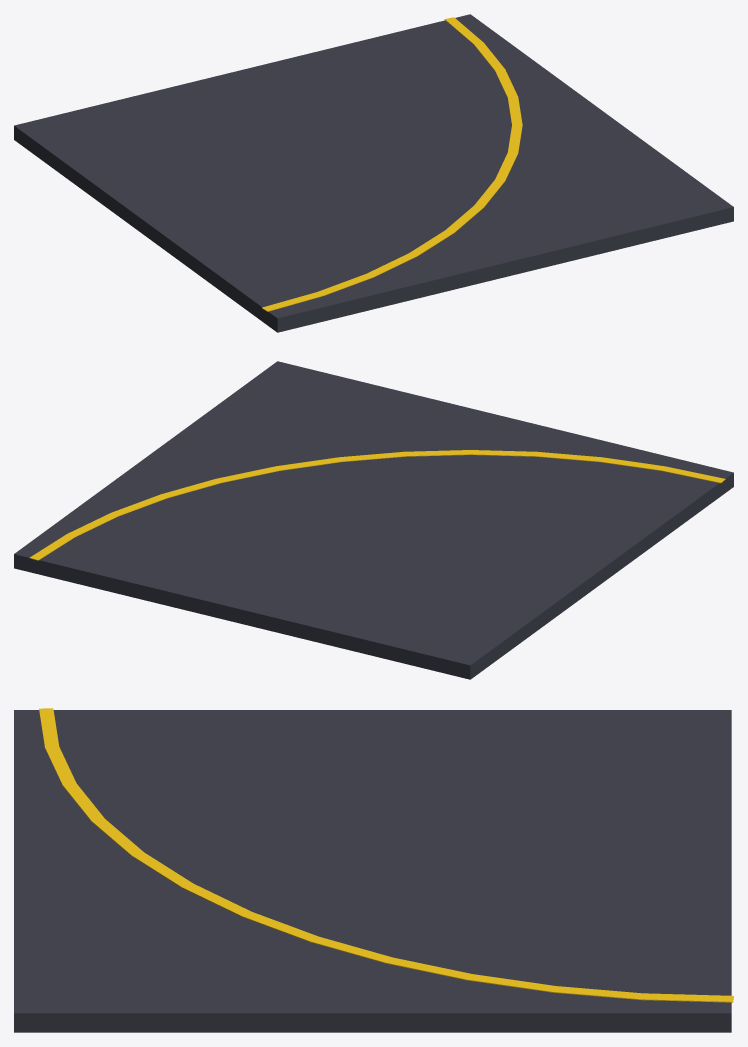
The model's file is env_road_corner.fbx.
3 views of the same model, one above another, from view 1: azimuth 30°, elevation 25°; view 2: azimuth 150°, elevation 25°; view 3: azimuth 270°, elevation 25° (orthographic). The views are drawn at different scales.
Visible parts, largest first — view 1: env_road_corner_geo; view 2: env_road_corner_geo; view 3: env_road_corner_geo.
Boxes of the visible parts, x1,y1,x2,y2 form: env_road_corner_geo: (14,14,733,332); env_road_corner_geo: (14,361,733,679); env_road_corner_geo: (14,708,733,1032).
Size of the model in its own units: 10.03 by 0.312 by 10.03.
